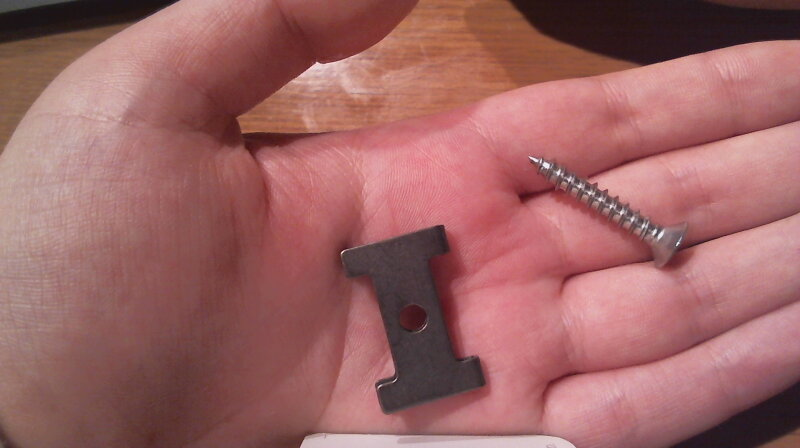O002: (335, 222, 488, 413)
S001: (521, 149, 687, 270)
